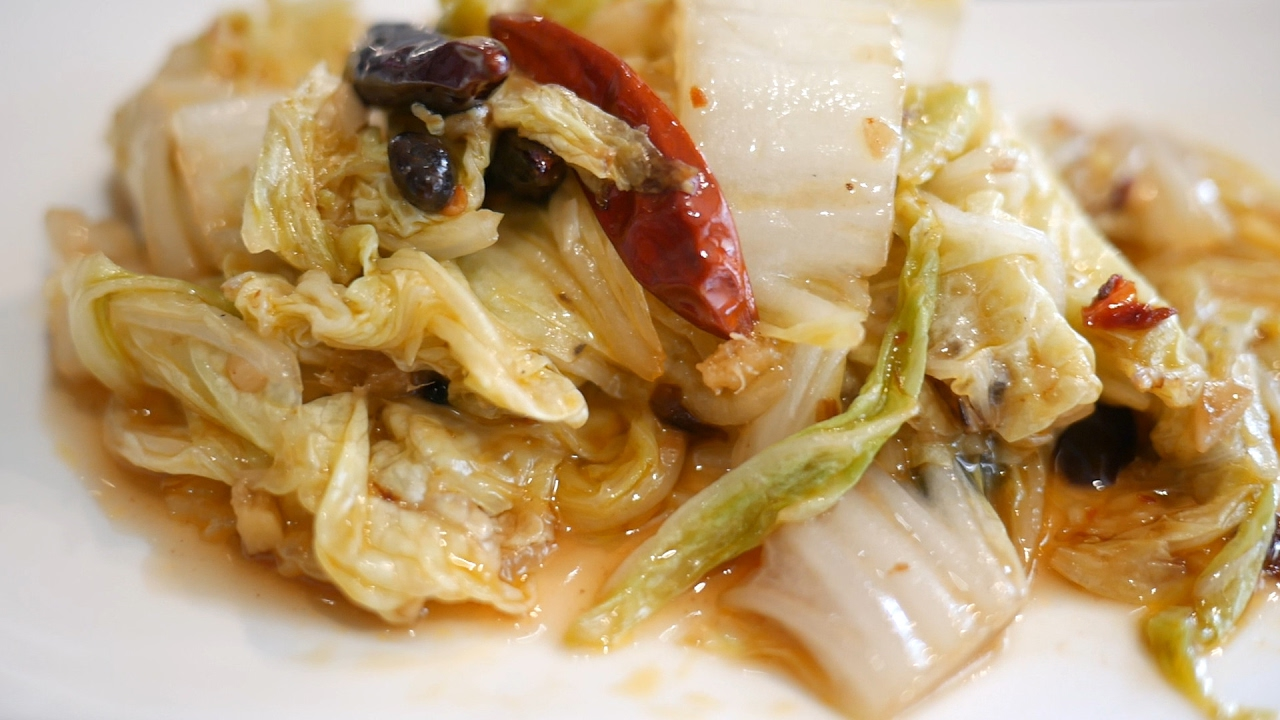chinese_cabbage: (154, 50, 1251, 632), (124, 258, 601, 617), (603, 352, 1097, 655), (758, 33, 1116, 377), (1027, 159, 1266, 627), (141, 51, 356, 307)
